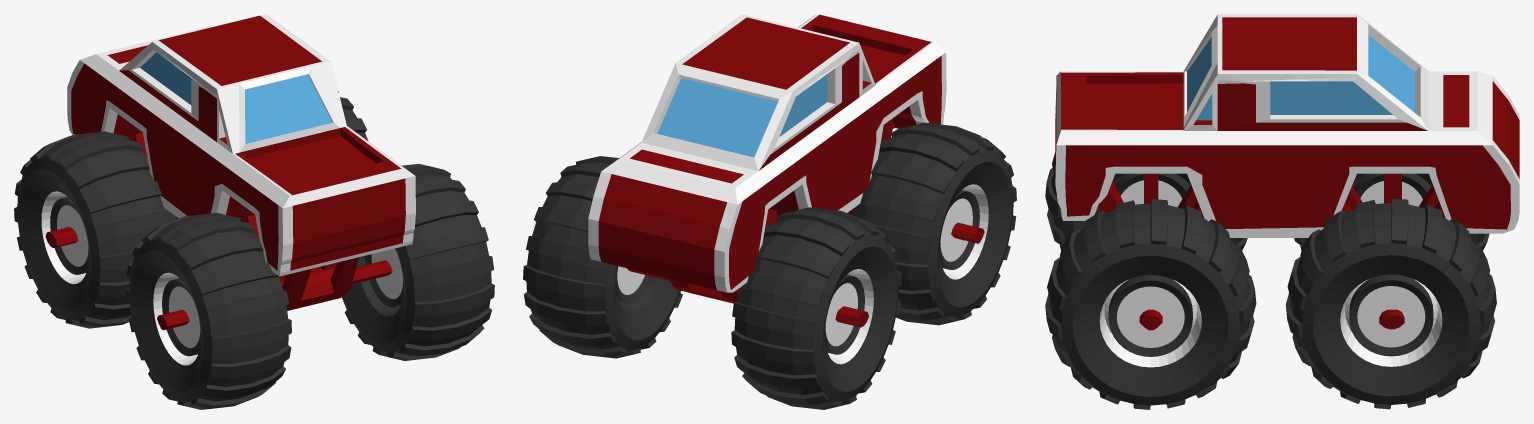
Rendered from BigAss.fbx.
The picture shows the model from 3 angles, left to right: view 1: azimuth 30°, elevation 25°; view 2: azimuth 150°, elevation 25°; view 3: azimuth 270°, elevation 25°; orthographic projection. The views are drawn at different scales.
Visible parts, largest first — view 1: rodas, moster truk; view 2: rodas, moster truk; view 3: moster truk, rodas.
Part boxes in pixels (x1=…): rodas: x1=14, y1=91, x2=494, y2=409; moster truk: x1=45, y1=14, x2=415, y2=330; rodas: x1=523, y1=122, x2=1016, y2=409; moster truk: x1=588, y1=14, x2=984, y2=327; moster truk: x1=1055, y1=14, x2=1519, y2=330; rodas: x1=1045, y1=152, x2=1496, y2=409.
Bounding box in the file's own units: 662 × 868 × 606.
